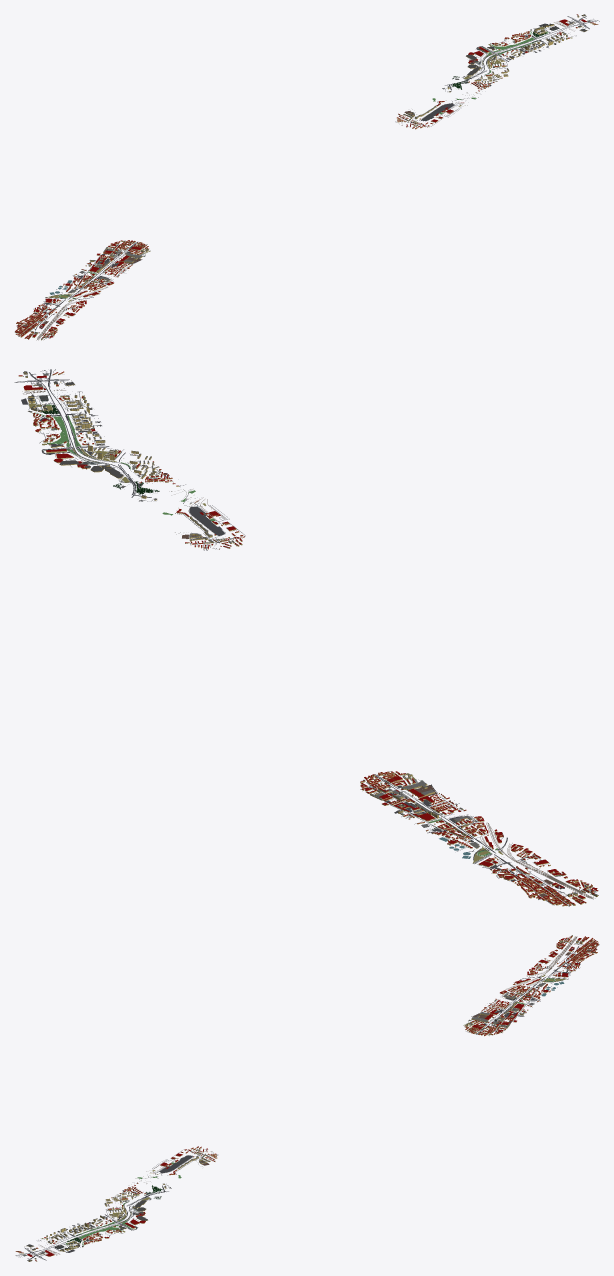
Rendered from city_model.glb.
3 renders of one model, top to bottom at view 1: azimuth 90°, elevation 25°; view 2: azimuth 150°, elevation 25°; view 3: azimuth 270°, elevation 25°, orthographic. The views are drawn at different scales.
Visible parts, largest first — view 1: object 1, object 4, Road w453376920, object 3; view 2: object 1, object 4, Road w453376920, object 3, object 15; view 3: object 1, object 4, Road w453376920, object 3.
Part boxes in pixels (box(x1,y1,x2,y2)): object 1: box(15, 14, 597, 340); object 4: box(15, 14, 597, 338); Road w453376920: box(18, 16, 599, 339); object 3: box(31, 14, 589, 338); object 1: box(18, 372, 597, 906); object 4: box(18, 371, 598, 905); Road w453376920: box(14, 369, 598, 906); object 3: box(23, 371, 597, 895); object 15: box(22, 388, 595, 899); object 1: box(16, 935, 598, 1261); object 4: box(16, 936, 598, 1260); Road w453376920: box(15, 937, 599, 1260); object 3: box(27, 935, 581, 1261).
Bounding box in the file's own units: 9957 × 73.24 × 7560.
32 materials, 31 textured.
